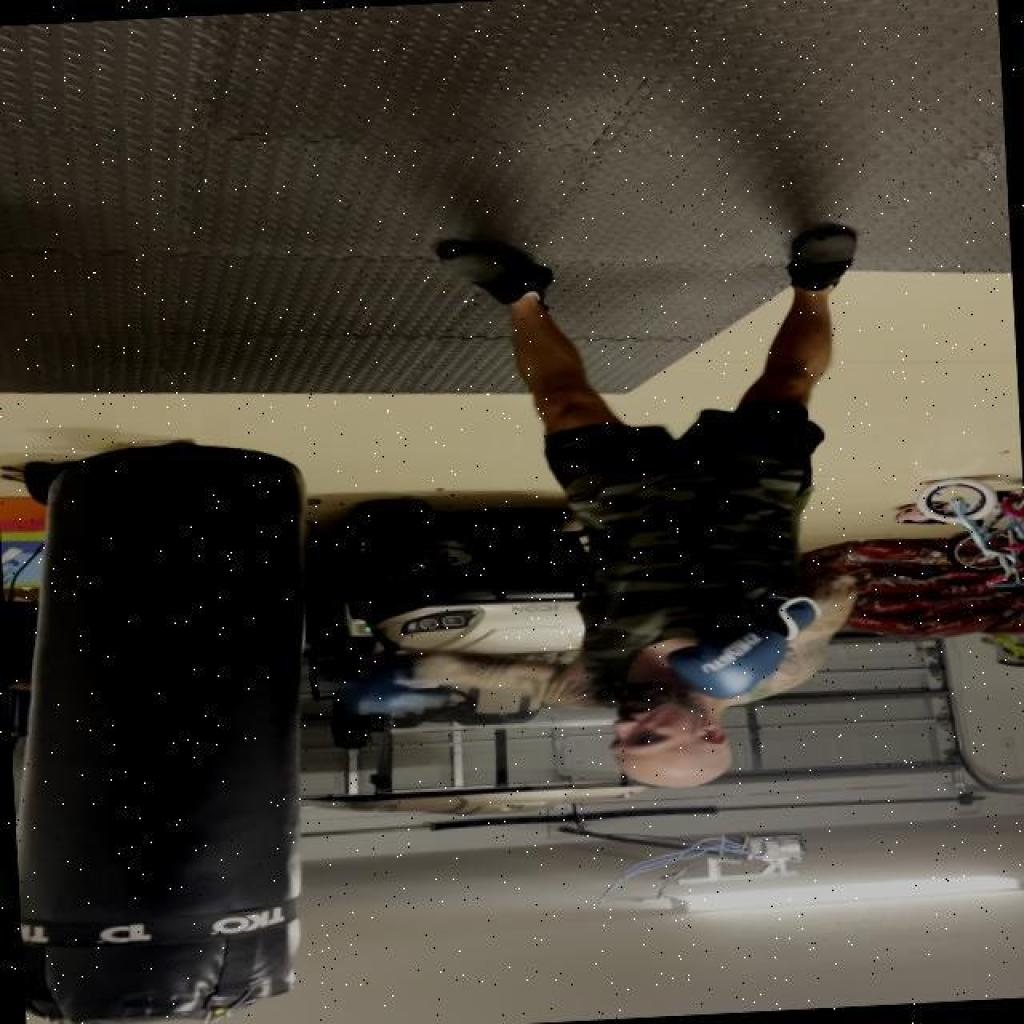bag: (27, 422, 320, 1024)
jab: (285, 541, 880, 830)
